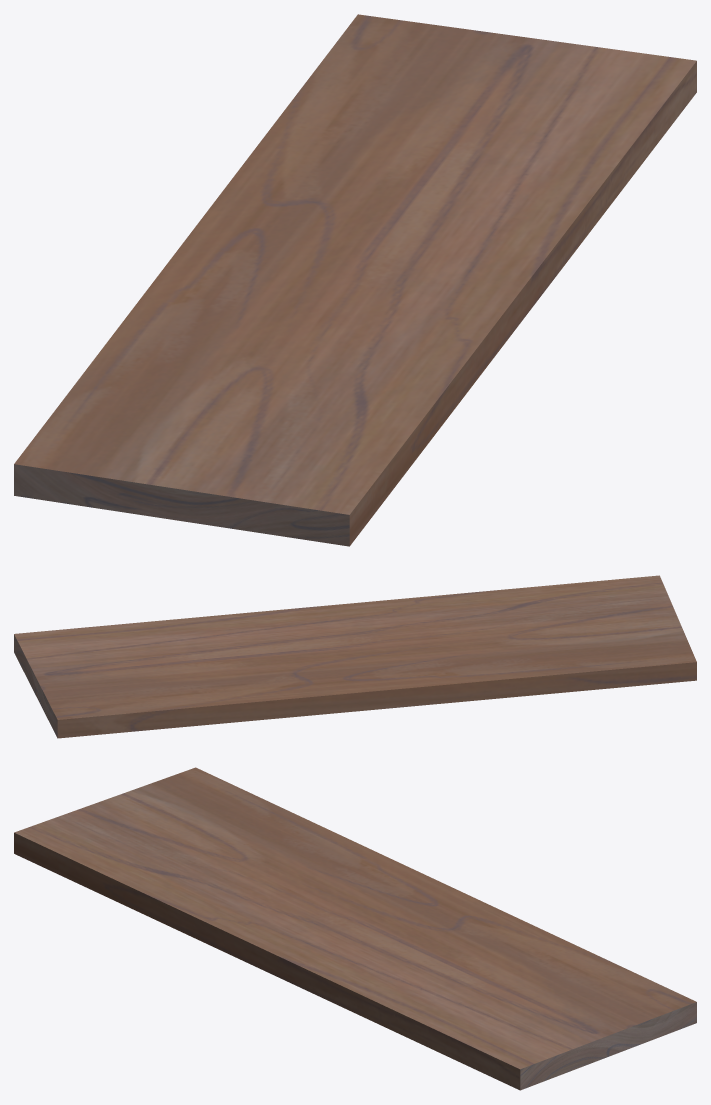
File: plank_039.fbx
3 renders of one model, top to bottom at view 1: azimuth 30°, elevation 25°; view 2: azimuth 150°, elevation 25°; view 3: azimuth 270°, elevation 25°, orthographic. The views are drawn at different scales.
Parts seen in each view (by area): view 1: plank.039; view 2: plank.039; view 3: plank.039.
Boxes of the visible parts, x1,y1,x2,y2 form: plank.039: [14, 14, 696, 546]; plank.039: [14, 575, 696, 738]; plank.039: [14, 767, 696, 1090].
Size of the model in its own units: 30.47 by 0.9957 by 29.13.
